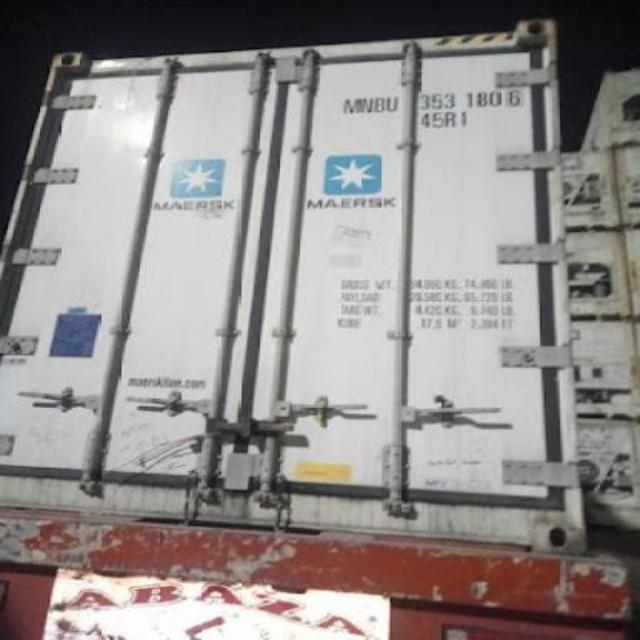0: (488, 90, 502, 106)
1: (464, 92, 476, 108)
3: (416, 93, 432, 111), (444, 92, 458, 108)
5: (431, 92, 444, 112)
6: (508, 89, 522, 107)
8: (476, 90, 488, 108)
B: (374, 96, 386, 114)
M: (341, 97, 362, 115)
N: (361, 97, 374, 113)
U: (386, 94, 399, 112)
